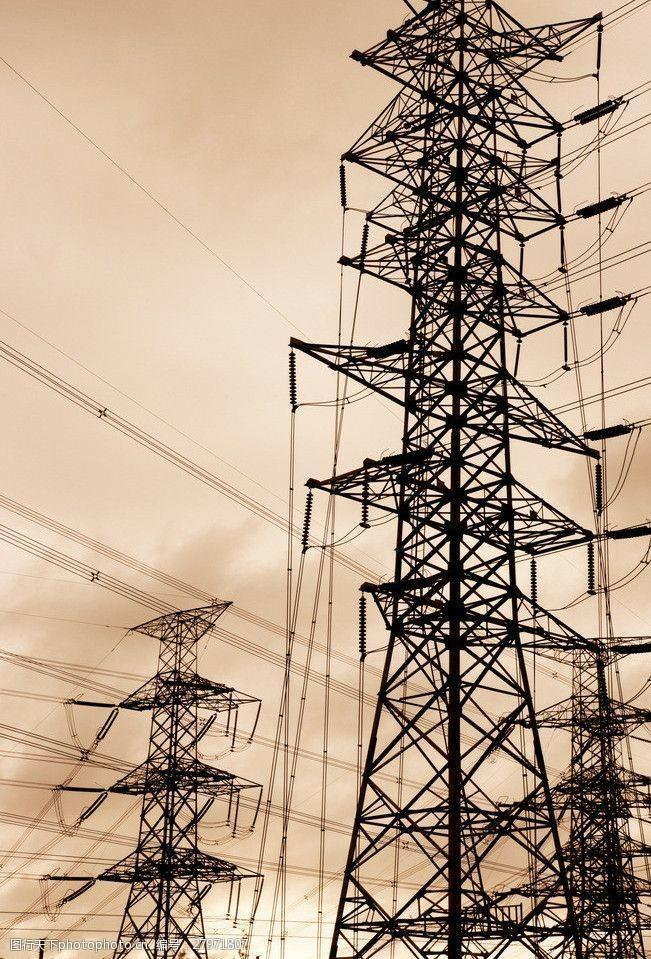power_tower: (300, 7, 596, 959), (81, 603, 273, 959), (520, 613, 651, 959)
